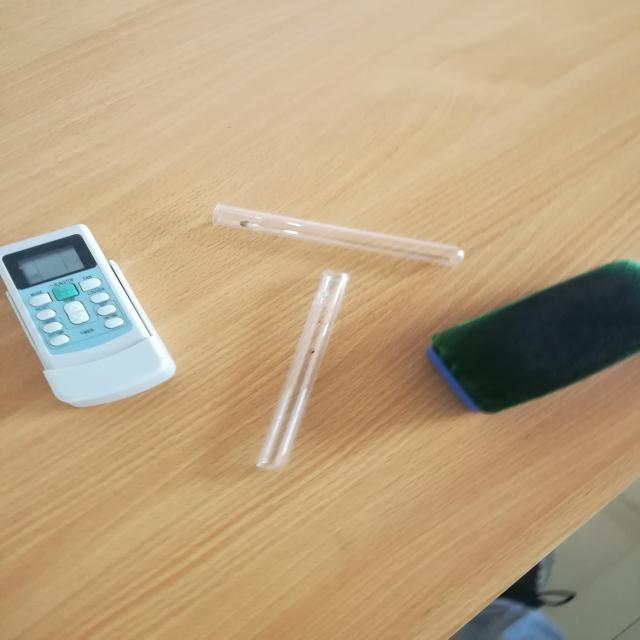Test_Tube: (196, 181, 488, 280), (240, 273, 374, 480)
